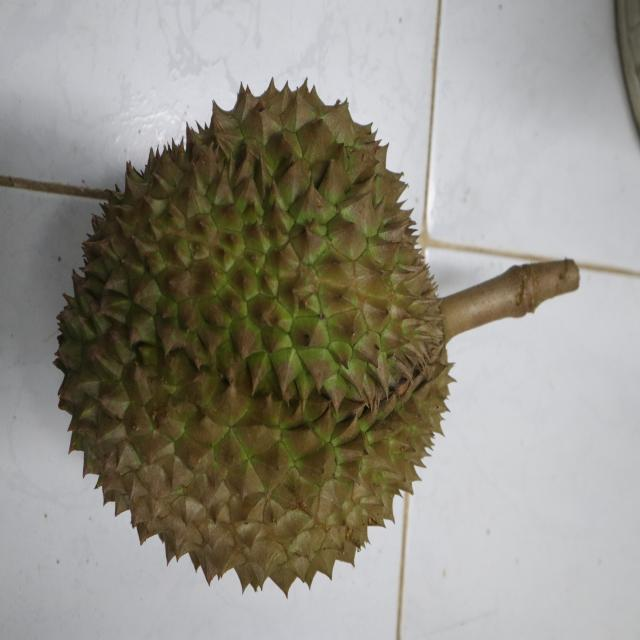mature: (51, 75, 459, 602)
